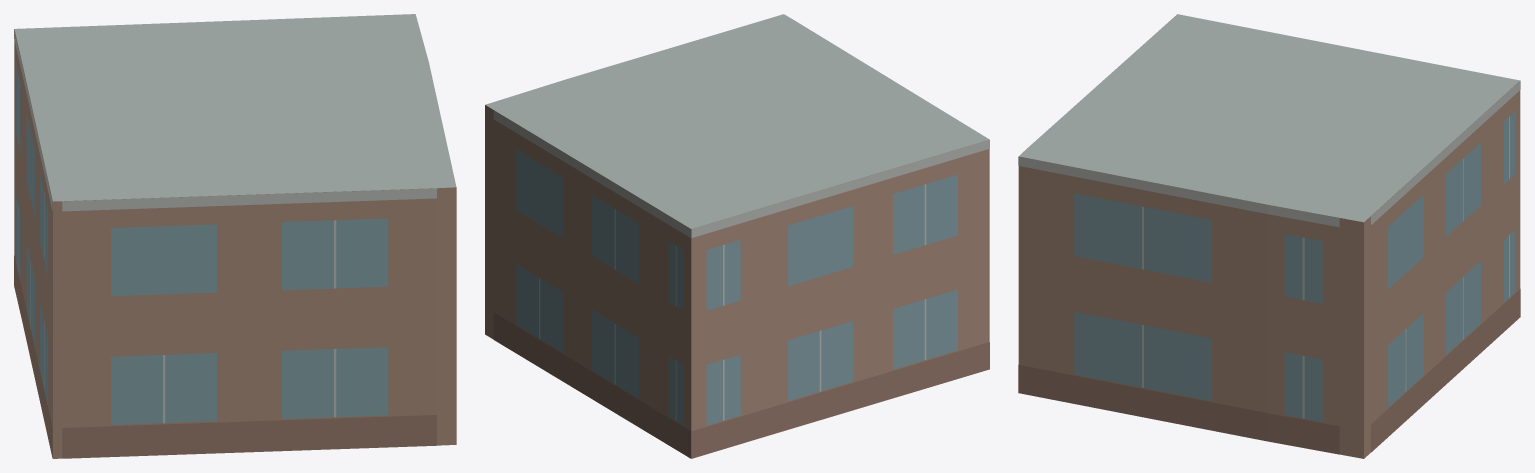
File: survey-upis-32779456.glb
3 renders of one model, left to right at view 1: azimuth 30°, elevation 25°; view 2: azimuth 150°, elevation 25°; view 3: azimuth 270°, elevation 25°, orthographic. The views are drawn at different scales.
Visible parts, largest first — view 1: survey-upis-32779456.tmp; view 2: survey-upis-32779456.tmp; view 3: survey-upis-32779456.tmp.
Boxes of the visible parts, x1,y1,x2,y2 form: survey-upis-32779456.tmp: (14, 14, 456, 458); survey-upis-32779456.tmp: (485, 14, 989, 458); survey-upis-32779456.tmp: (1018, 14, 1520, 458).
Size of the model in its own units: 11.52 by 6.1 by 11.73.
